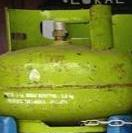cylinder: (0, 1, 132, 133)
